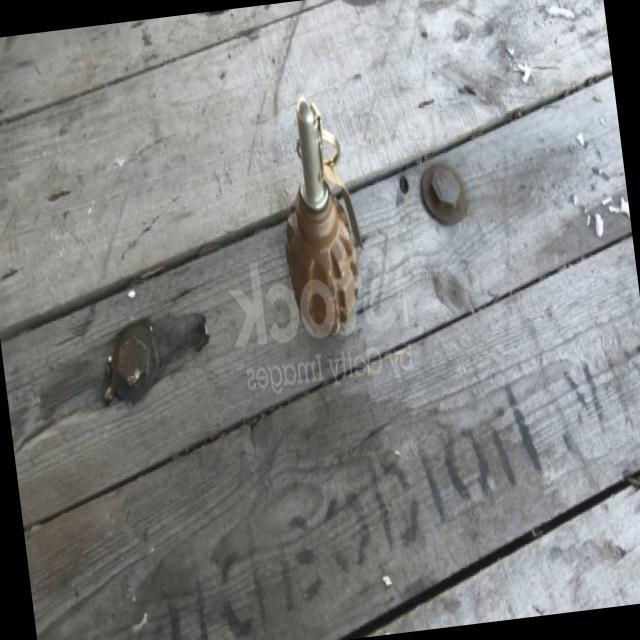grenade: (265, 80, 373, 338)
